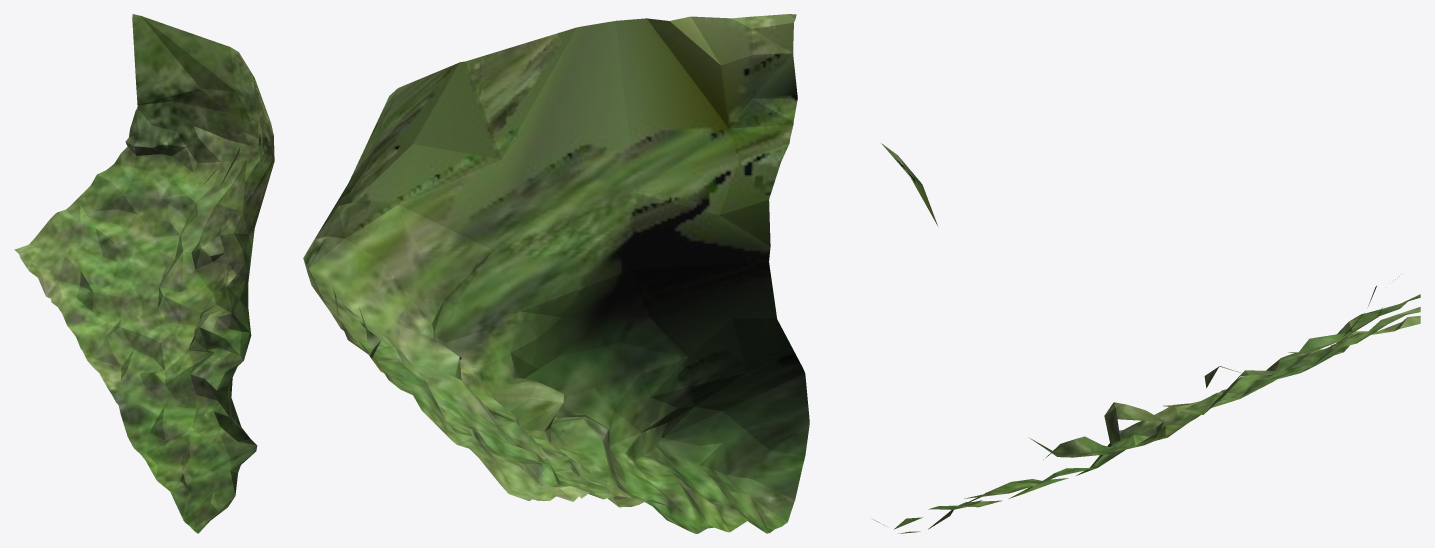
3 renders of one model, left to right at view 1: azimuth 30°, elevation 25°; view 2: azimuth 150°, elevation 25°; view 3: azimuth 270°, elevation 25°, orthographic. The views are drawn at different scales.
Size of the model in its own units: 11.69 by 19.59 by 19.87.
2 materials, 2 textured.
